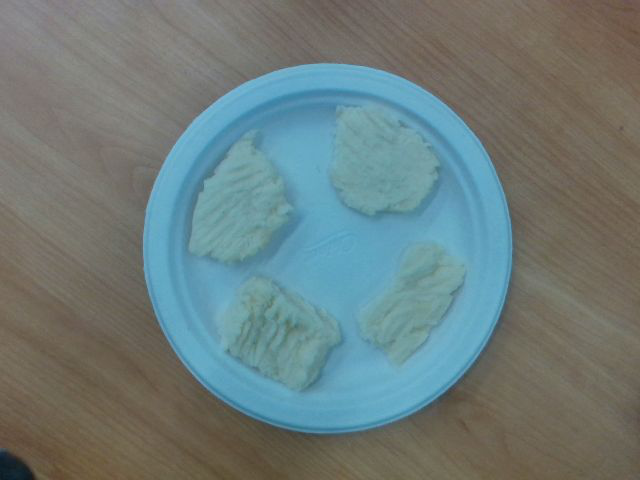mashed_potato: (219, 277, 339, 393), (358, 240, 464, 364), (189, 131, 290, 259), (335, 107, 436, 214)
